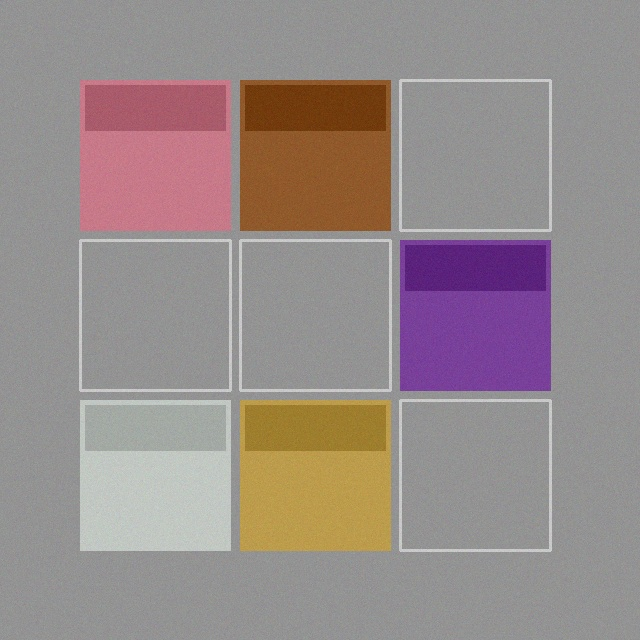space-empty: (400, 80, 550, 230), (80, 240, 230, 390), (240, 240, 390, 390), (400, 400, 550, 550)
space-occupied: (80, 80, 230, 230), (240, 80, 390, 230), (400, 240, 550, 390), (80, 400, 230, 550), (240, 400, 390, 550)
